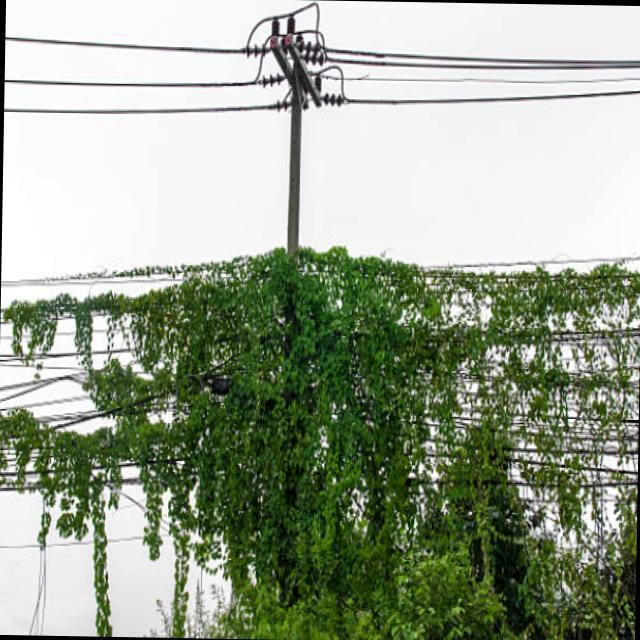critical vegetation: (211, 15, 388, 632)
